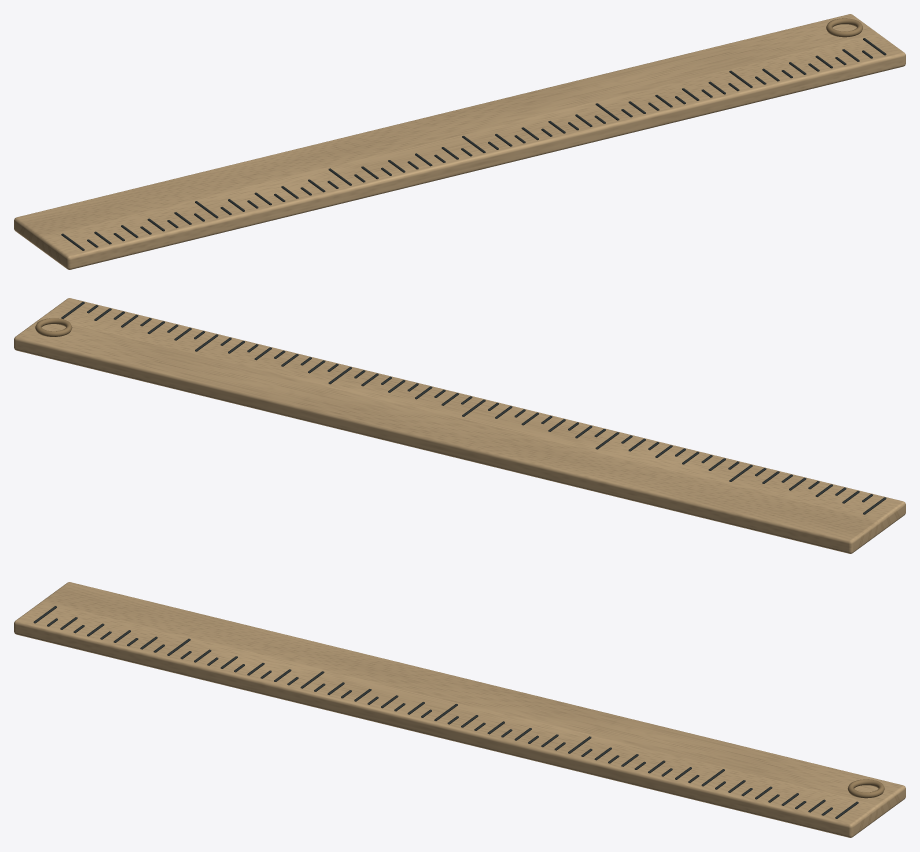
The model's file is ruler.glb.
3 views of the same model, one above another, from view 1: azimuth 30°, elevation 25°; view 2: azimuth 150°, elevation 25°; view 3: azimuth 330°, elevation 25° (orthographic).
Parts seen in each view (by area): view 1: Thirty-centimeter ash rule; view 2: Thirty-centimeter ash rule; view 3: Thirty-centimeter ash rule.
Boxes of the visible parts, x1,y1,x2,y2 form: Thirty-centimeter ash rule: (14, 14, 905, 269); Thirty-centimeter ash rule: (14, 298, 905, 553); Thirty-centimeter ash rule: (14, 582, 905, 837).
Size of the model in its own units: 0.314 by 0.007 by 0.036.
Materials: 4 (4 with a texture image).
